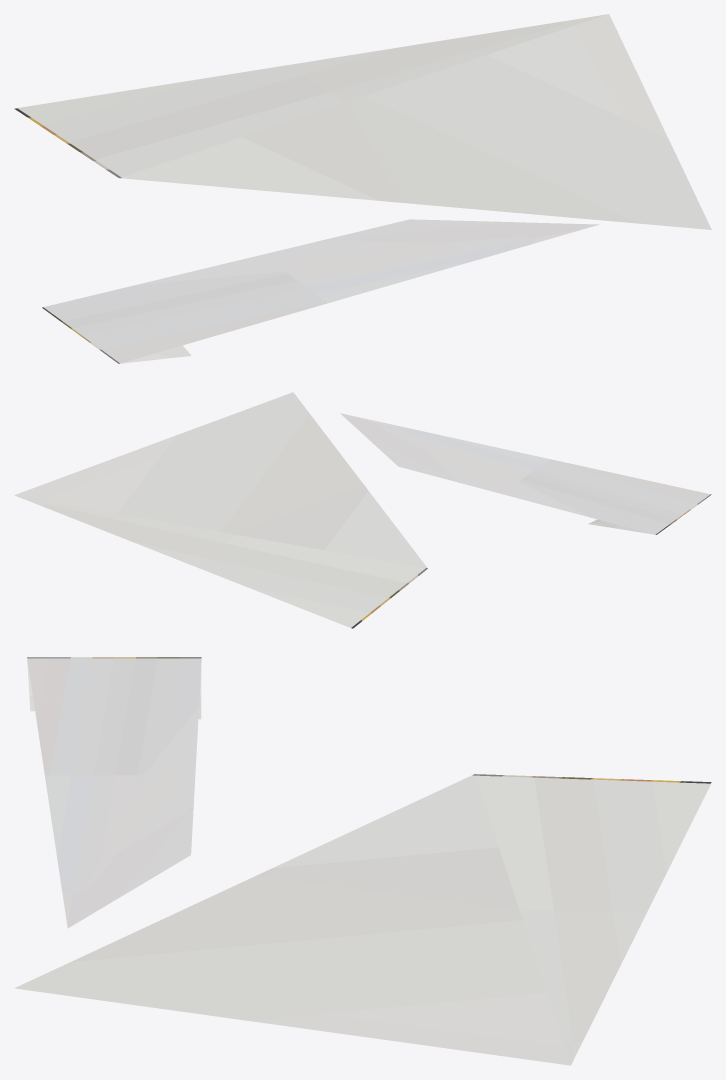
Rendered from mpzy011-geode.glb.
The picture shows the model from 3 angles, top to bottom: view 1: azimuth 30°, elevation 25°; view 2: azimuth 150°, elevation 25°; view 3: azimuth 270°, elevation 25°; orthographic projection. The views are drawn at different scales.
Parts seen in each view (by area): view 1: Node; view 2: Node; view 3: Node.
Part boxes in pixels (x1=…): Node: x1=14, y1=14, x2=711, y2=363; Node: x1=14, y1=392, x2=711, y2=628; Node: x1=14, y1=657, x2=711, y2=1065.
Size of the model in its own units: 0.548 by 0.0131 by 0.4.
Materials: 1 (1 with a texture image).
